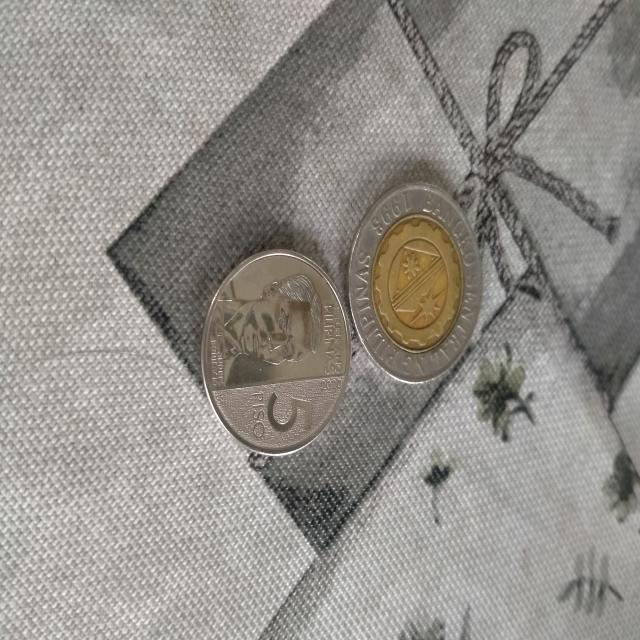10_Old_Back: (349, 183, 480, 387)
5_New_Front: (238, 380, 325, 445)
